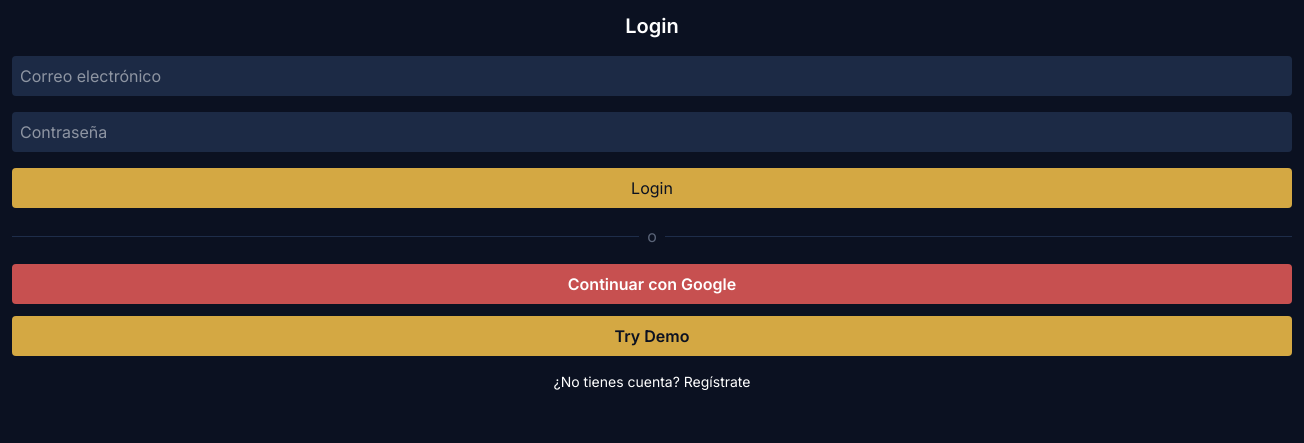
Test: LoginPage › shows generic error when login throws non-Error
In the field with placeholder "Correo electrónico": x=652, y=76 [12,56,1292,96], type "bad@example.com"
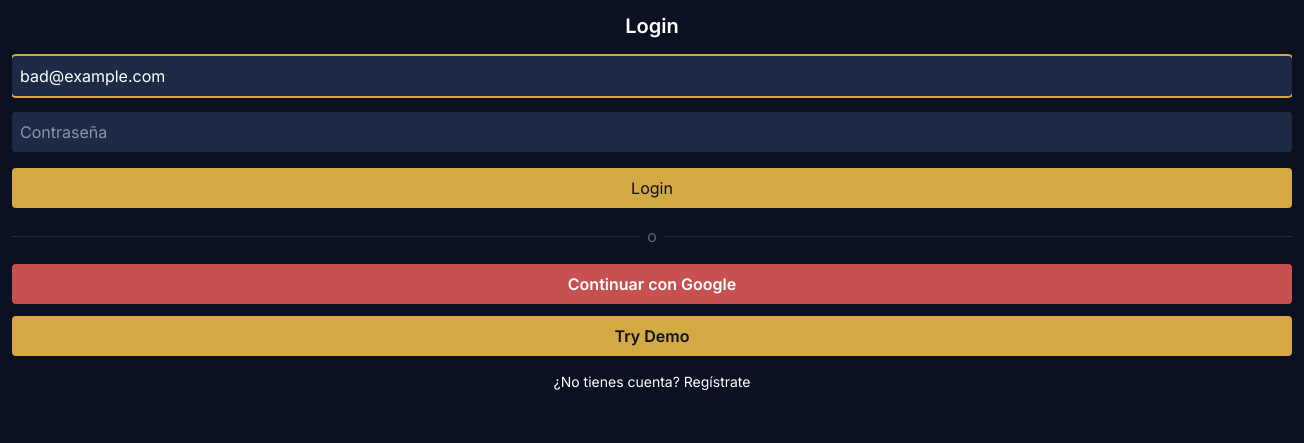
In the password field with placeholder "Contraseña": x=652, y=132 [12,112,1292,152], type "wrongpass"
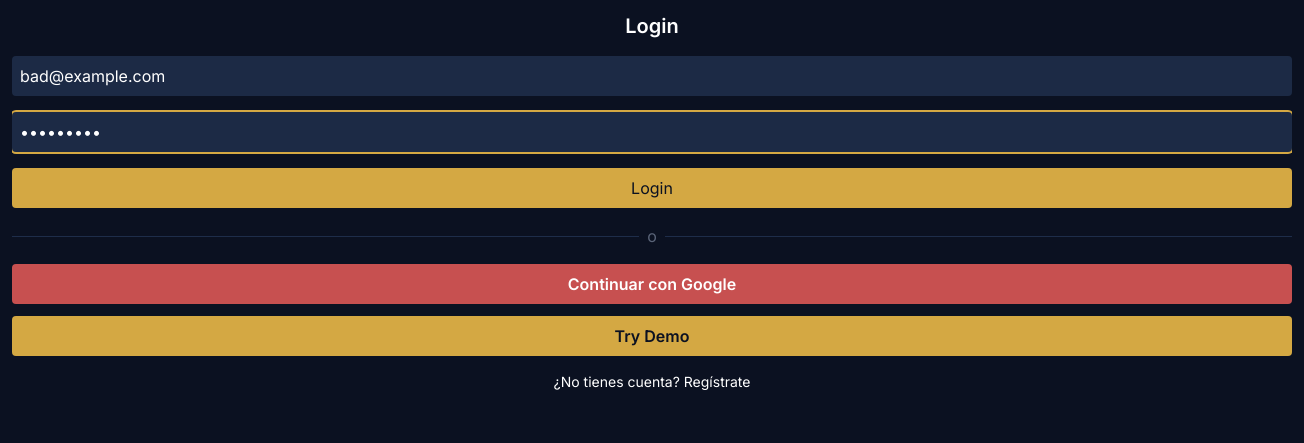
Click the button "Login": x=652, y=188 [12,168,1292,208]
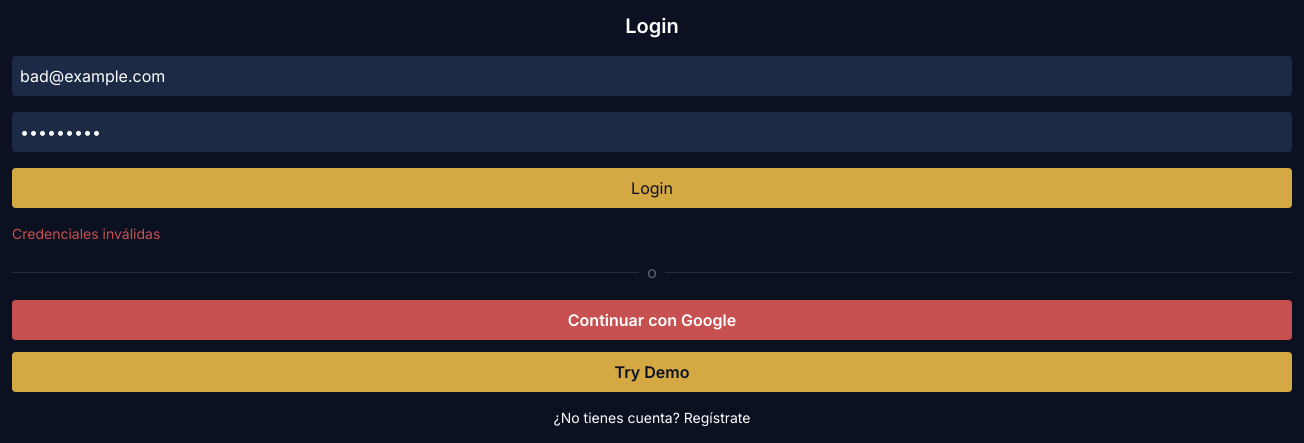
Expected: the text "Credenciales inválidas" is shown, [12,225,160,242]
